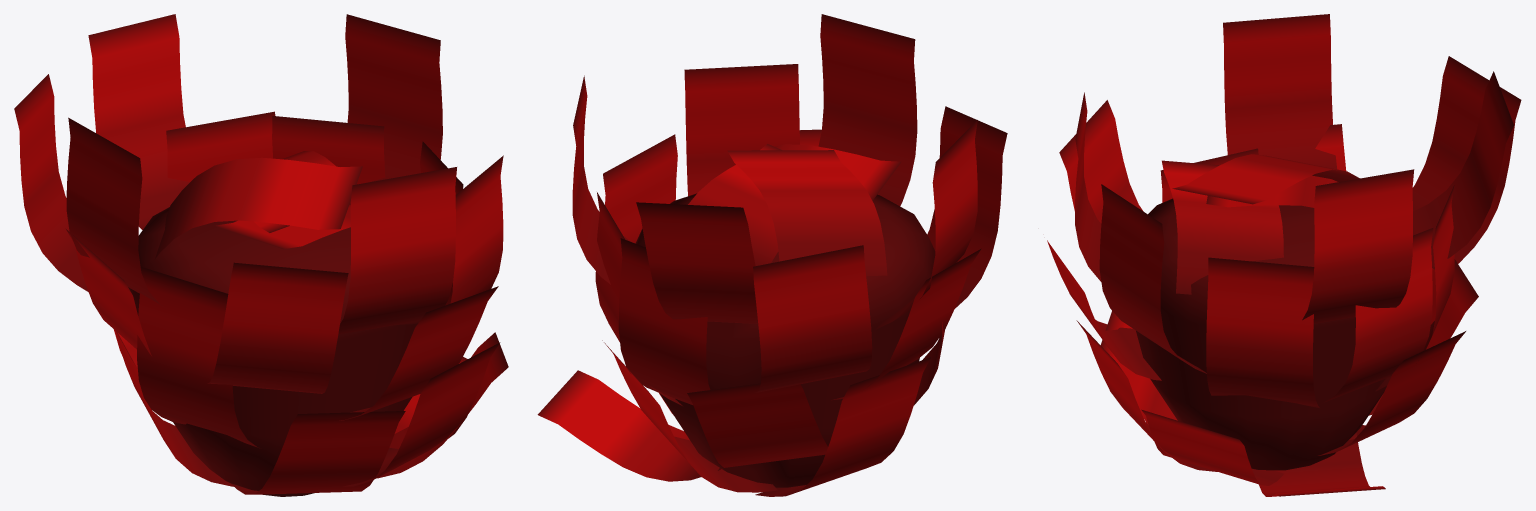
Rendered from PohutakawaTest.fbx.
3 views of the same model, side by side, from view 1: azimuth 30°, elevation 25°; view 2: azimuth 150°, elevation 25°; view 3: azimuth 270°, elevation 25° (orthographic). The views are drawn at different scales.
Visible parts, largest first — view 1: Cylinder.013; view 2: Cylinder.013; view 3: Cylinder.013.
Boxes of the visible parts, <box> form: Cylinder.013: <box>14,14,508,496</box>; Cylinder.013: <box>537,14,1007,496</box>; Cylinder.013: <box>1047,14,1521,496</box>.
Bounding box in the file's own units: 17.44 × 16.63 × 20.07.
